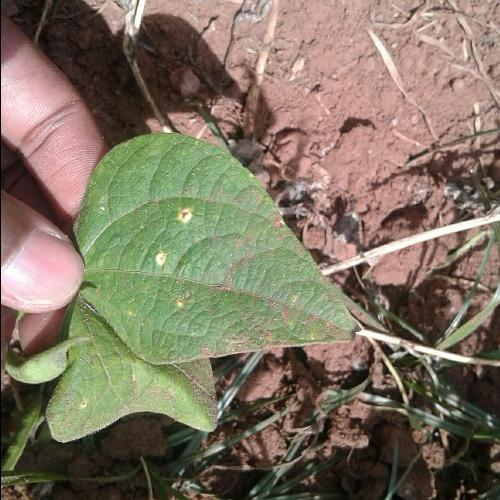hawar: (156, 282, 318, 338), (138, 200, 204, 282)
